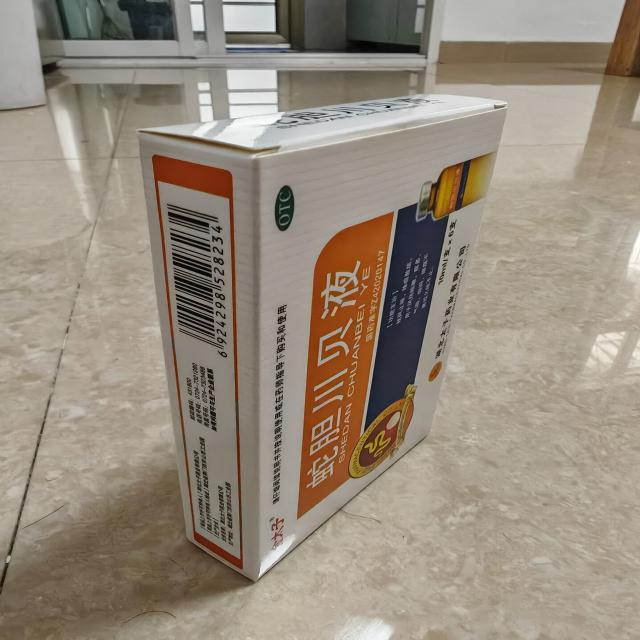box: (125, 91, 517, 586)
